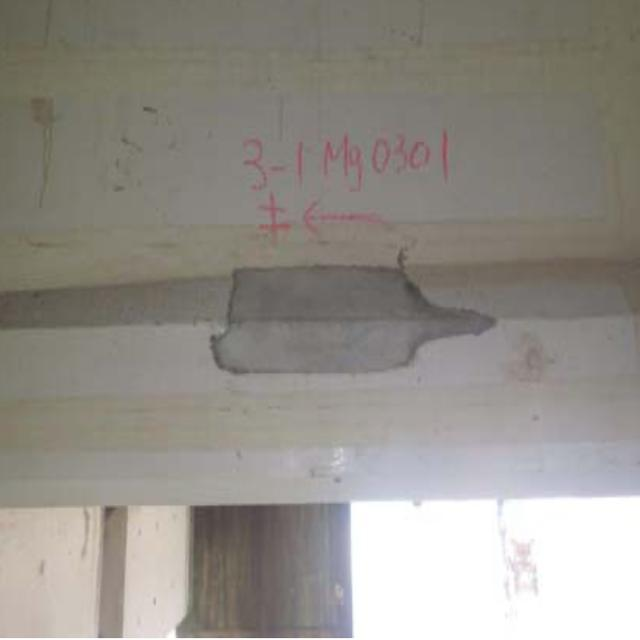spalling: (197, 237, 513, 393)
